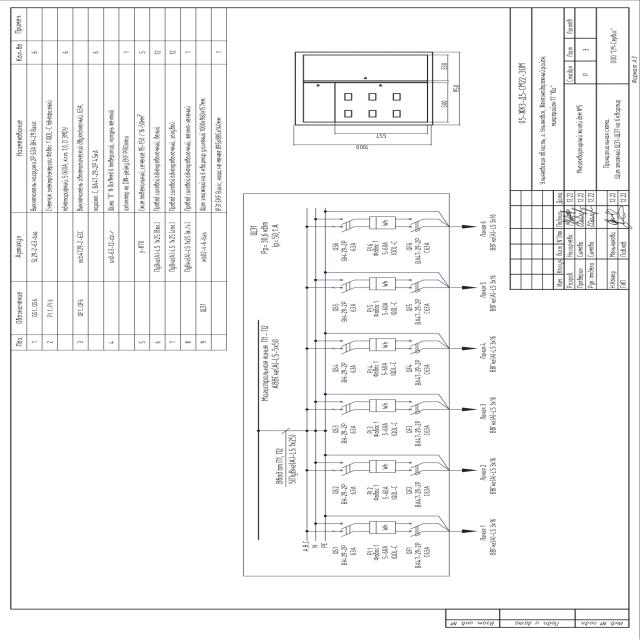-: (414, 358, 432, 386), (373, 300, 400, 318), (414, 420, 432, 447), (373, 484, 400, 502), (414, 542, 431, 570), (414, 298, 431, 326), (373, 544, 399, 562), (415, 237, 432, 264), (414, 481, 431, 508), (373, 421, 399, 438), (373, 360, 399, 377), (340, 482, 358, 506), (373, 240, 399, 256), (340, 361, 358, 384), (339, 238, 356, 262), (340, 544, 358, 566), (340, 299, 357, 322), (339, 422, 356, 445), (248, 224, 259, 237)
QFD: (406, 216, 426, 233), (336, 338, 356, 355), (337, 216, 356, 233), (405, 461, 424, 478), (336, 399, 356, 415), (406, 277, 424, 294), (336, 277, 354, 294), (406, 399, 424, 416), (336, 460, 355, 476), (337, 521, 356, 537), (406, 522, 425, 538), (406, 338, 424, 354)
WH: (368, 520, 397, 535), (369, 276, 398, 291), (368, 337, 398, 351), (368, 399, 398, 413), (369, 215, 398, 229), (369, 459, 398, 473)
